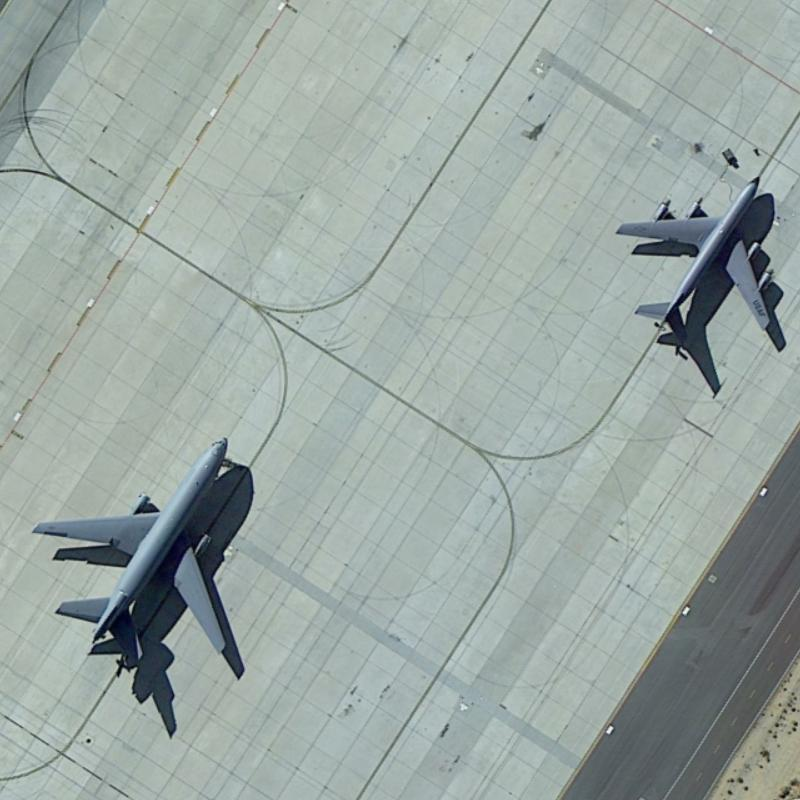A14: (607, 169, 773, 344)
A18: (22, 428, 259, 665)
